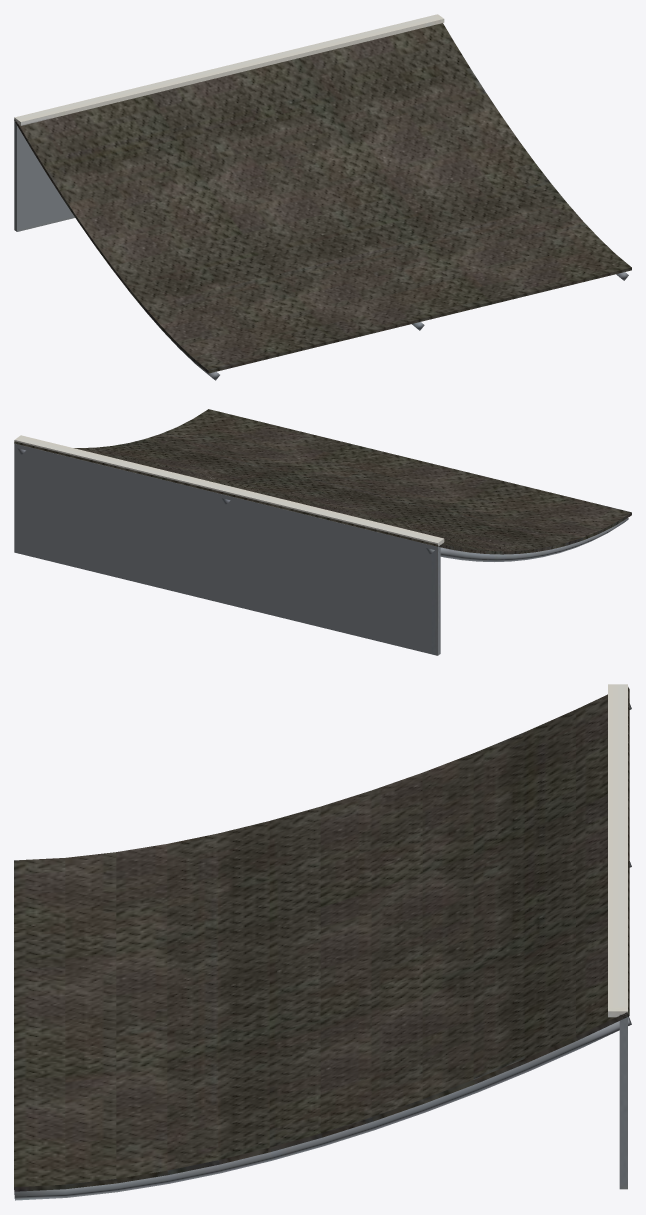
File: ramp_steel.glb
3 renders of one model, top to bottom at view 1: azimuth 30°, elevation 25°; view 2: azimuth 150°, elevation 25°; view 3: azimuth 270°, elevation 25°, orthographic. The views are drawn at different scales.
Visible parts, largest first — view 1: ramp_steel; view 2: ramp_steel; view 3: ramp_steel.
Part boxes in pixels (x1,y1,x2,y2): ramp_steel: [14, 14, 631, 380]; ramp_steel: [14, 409, 631, 655]; ramp_steel: [14, 684, 631, 1200].
Size of the model in its own units: 4.6 by 1.28 by 3.68.
1 material, 1 textured.
